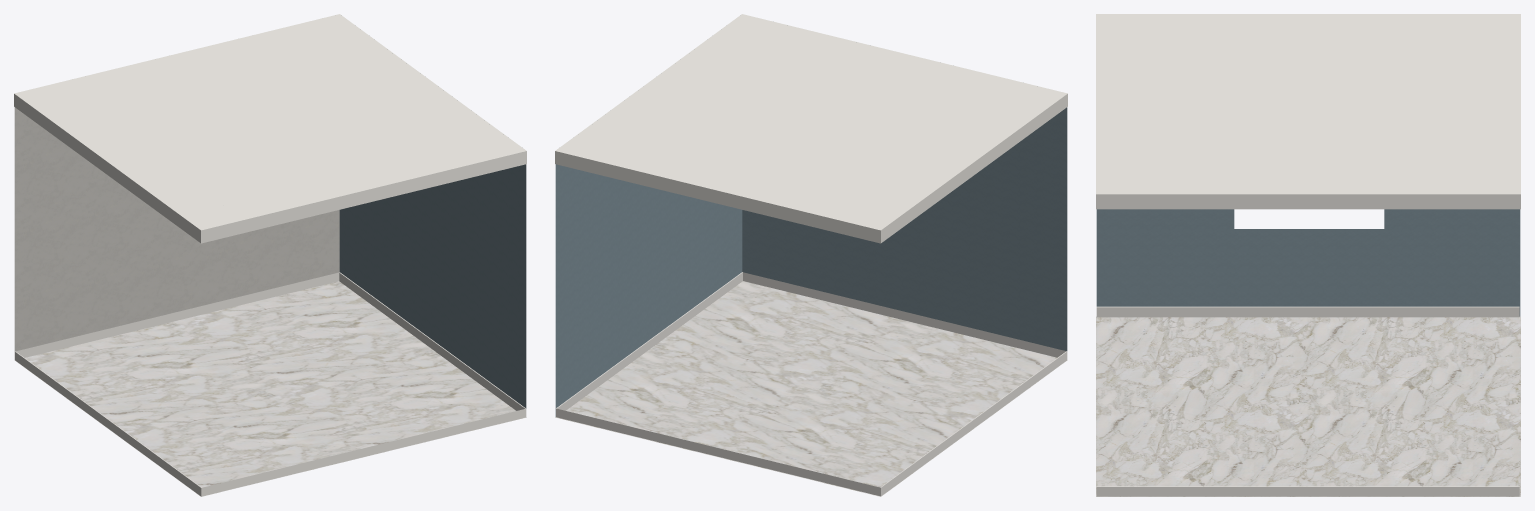
The model's file is office-room.glb.
3 renders of one model, left to right at view 1: azimuth 30°, elevation 25°; view 2: azimuth 150°, elevation 25°; view 3: azimuth 270°, elevation 25°, orthographic. The views are drawn at different scales.
Visible parts, largest first — view 1: ceiling, floor, front_wall, right_wall, skirt; view 2: ceiling, floor, back_wall, right_wall, skirt; view 3: ceiling, floor, left_wall, skirt.
Part boxes in pixels (x1,y1,x2,y2): ceiling: (14,14,526,243); floor: (14,281,526,496); front_wall: (14,107,339,359); right_wall: (339,164,526,408); skirt: (15,272,526,496); ceiling: (555,14,1067,243); floor: (555,281,1067,496); back_wall: (742,107,1067,351); right_wall: (555,164,742,416); skirt: (556,272,1067,496); ceiling: (1096,14,1520,209); floor: (1096,316,1520,496); left_wall: (1096,209,1520,316); skirt: (1096,306,1519,496).
Size of the model in its own units: 3.9 by 3.05 by 3.88.
5 materials, 3 textured.
